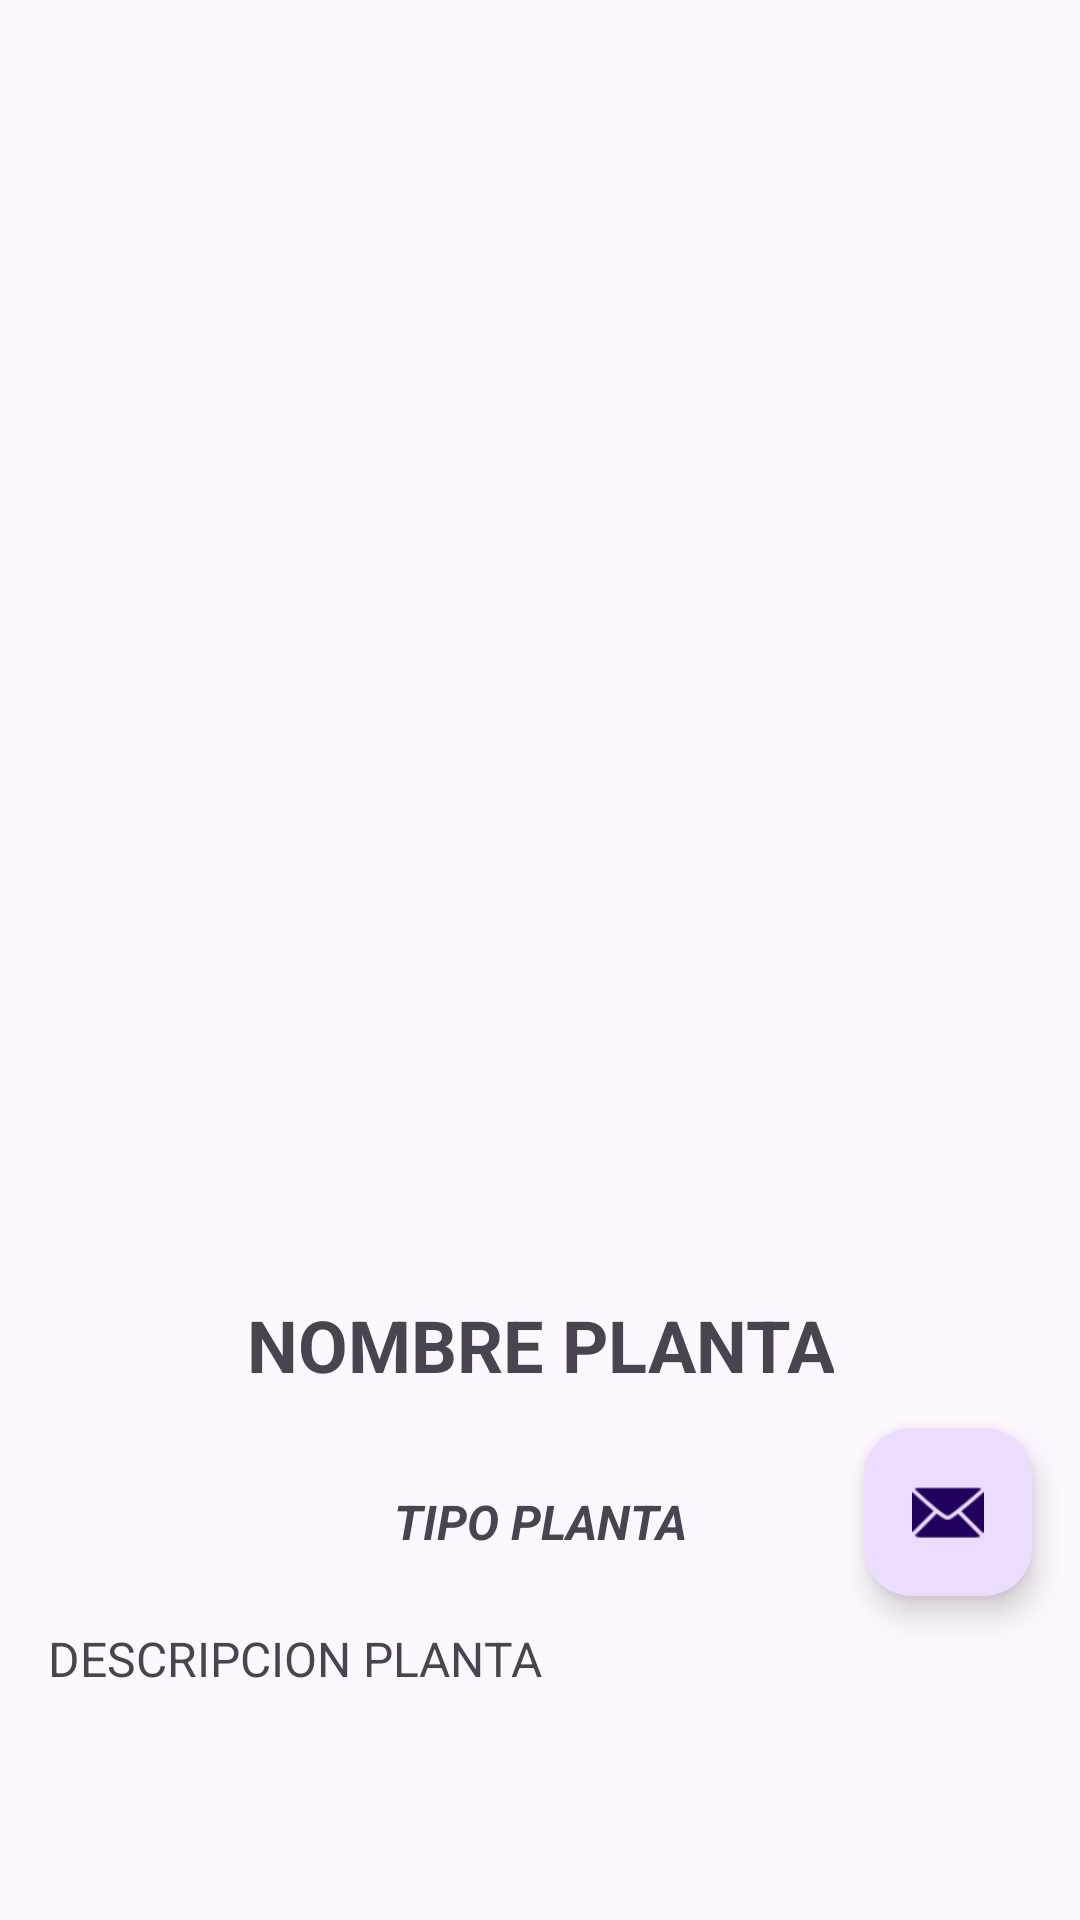

Icons on this 1080px×1920px Android screen, each with its box as (x1, y1, x2, y2):
email: (864, 1428, 1032, 1596)
